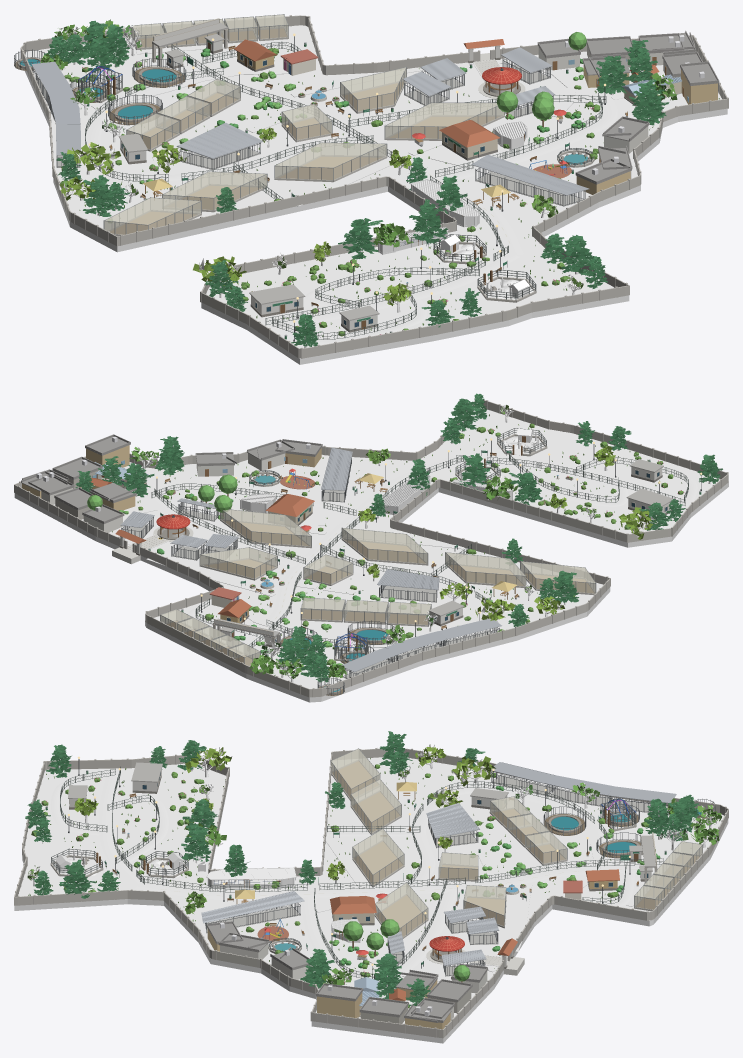
The model's file is mapacompleto.glb.
3 views of the same model, one above another, from view 1: azimuth 30°, elevation 25°; view 2: azimuth 150°, elevation 25°; view 3: azimuth 270°, elevation 25° (orthographic). The views are drawn at different scales.
Visible parts, largest first — view 1: PASTO_BASE, MURO_PERIMETRAL_BLOCK, ZN2_TELA_MALLA, ZN2_LAMINA_RECINTOS, ZN2_TELA_PISO_Y_POSTES, CERCAS_CAMINOS_UNIFICADO, BASE_ZOOLOGICO_NICOLAS_BRAVO, ZN2_CASAS_BLOCK_LOSAS, ZN_TELA_MALLA, CAMINO_AV_PRINCIPAL, ZN_TELA_PISO_Y_POSTES, ZOCALO_RECINTOS_CONCRETO (+45 smaller); view 2: PASTO_BASE, MURO_PERIMETRAL_BLOCK, ZN2_TELA_MALLA, ZN2_TELA_PISO_Y_POSTES, ZN2_LAMINA_RECINTOS, BASE_ZOOLOGICO_NICOLAS_BRAVO, ZN2_CASAS_BLOCK_LOSAS, CERCAS_CAMINOS_UNIFICADO, ZN_TELA_MALLA, ZN2_CASAS_BLOCK_MUROS, CAMINO_AV_PRINCIPAL, ZN_LAMINA_RECINTOS (+35 smaller); view 3: PASTO_BASE, MURO_PERIMETRAL_BLOCK, ZN2_TELA_MALLA, ZN2_LAMINA_RECINTOS, ZN2_TELA_PISO_Y_POSTES, CERCAS_CAMINOS_UNIFICADO, ZN2_CASAS_BLOCK_LOSAS, ZN_TELA_MALLA, BASE_ZOOLOGICO_NICOLAS_BRAVO, ZN_LAMINA_RECINTOS, CAMINO_AV_PRINCIPAL, ZN2_CASAS_BLOCK_MUROS (+37 smaller).
Part boxes in pixels (x1,y1,x2,y2): PASTO_BASE: (25, 25, 721, 358); MURO_PERIMETRAL_BLOCK: (20, 15, 728, 358); ZN2_TELA_MALLA: (104, 67, 504, 234); ZN2_LAMINA_RECINTOS: (176, 47, 589, 206); ZN2_TELA_PISO_Y_POSTES: (103, 66, 504, 234); CERCAS_CAMINOS_UNIFICADO: (85, 41, 606, 339); BASE_ZOOLOGICO_NICOLAS_BRAVO: (25, 70, 727, 364); ZN2_CASAS_BLOCK_LOSAS: (537, 30, 719, 184); ZN_TELA_MALLA: (127, 14, 287, 149); CAMINO_AV_PRINCIPAL: (181, 50, 523, 255); ZN_TELA_PISO_Y_POSTES: (126, 14, 288, 151); ZOCALO_RECINTOS_CONCRETO: (109, 27, 504, 236); PASTO_BASE: (53, 407, 719, 688); MURO_PERIMETRAL_BLOCK: (14, 400, 728, 697); ZN2_TELA_MALLA: (200, 509, 595, 593); ZN2_TELA_PISO_Y_POSTES: (199, 509, 596, 592); ZN2_LAMINA_RECINTOS: (120, 447, 439, 602); BASE_ZOOLOGICO_NICOLAS_BRAVO: (14, 482, 728, 702); ZN2_CASAS_BLOCK_LOSAS: (21, 434, 322, 523); CERCAS_CAMINOS_UNIFICADO: (151, 454, 688, 647); ZN_TELA_MALLA: (160, 598, 431, 665); ZN2_CASAS_BLOCK_MUROS: (22, 445, 321, 532); CAMINO_AV_PRINCIPAL: (241, 456, 462, 646); ZN_LAMINA_RECINTOS: (341, 618, 501, 678); PASTO_BASE: (18, 757, 724, 1023); MURO_PERIMETRAL_BLOCK: (14, 748, 728, 1038); ZN2_TELA_MALLA: (331, 749, 505, 936); ZN2_LAMINA_RECINTOS: (201, 803, 499, 976); ZN2_TELA_PISO_Y_POSTES: (330, 748, 506, 936); CERCAS_CAMINOS_UNIFICADO: (60, 766, 663, 981); ZN2_CASAS_BLOCK_LOSAS: (206, 921, 488, 1022); ZN_TELA_MALLA: (490, 796, 702, 909); BASE_ZOOLOGICO_NICOLAS_BRAVO: (14, 781, 728, 1043); ZN_LAMINA_RECINTOS: (491, 762, 676, 814); CAMINO_AV_PRINCIPAL: (135, 865, 660, 899); ZN2_CASAS_BLOCK_MUROS: (207, 929, 487, 1029).
Size of the model in its own units: 165 by 11.58 by 177.
